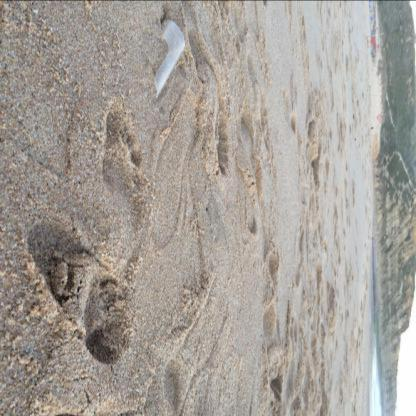Cup: (154, 19, 186, 99)
